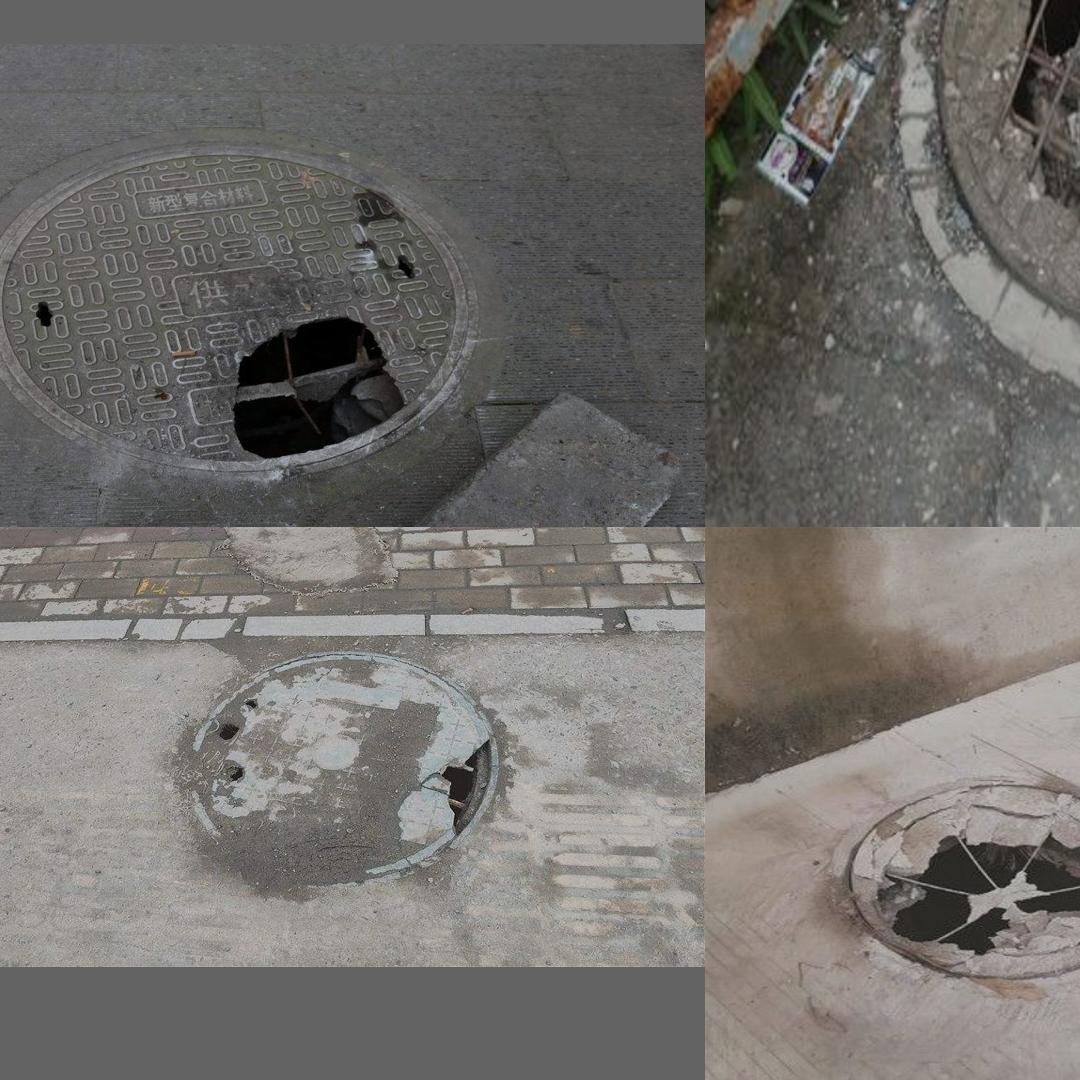broke: (0, 140, 479, 471), (906, 0, 1080, 411), (184, 658, 502, 879), (797, 763, 1080, 1011)
